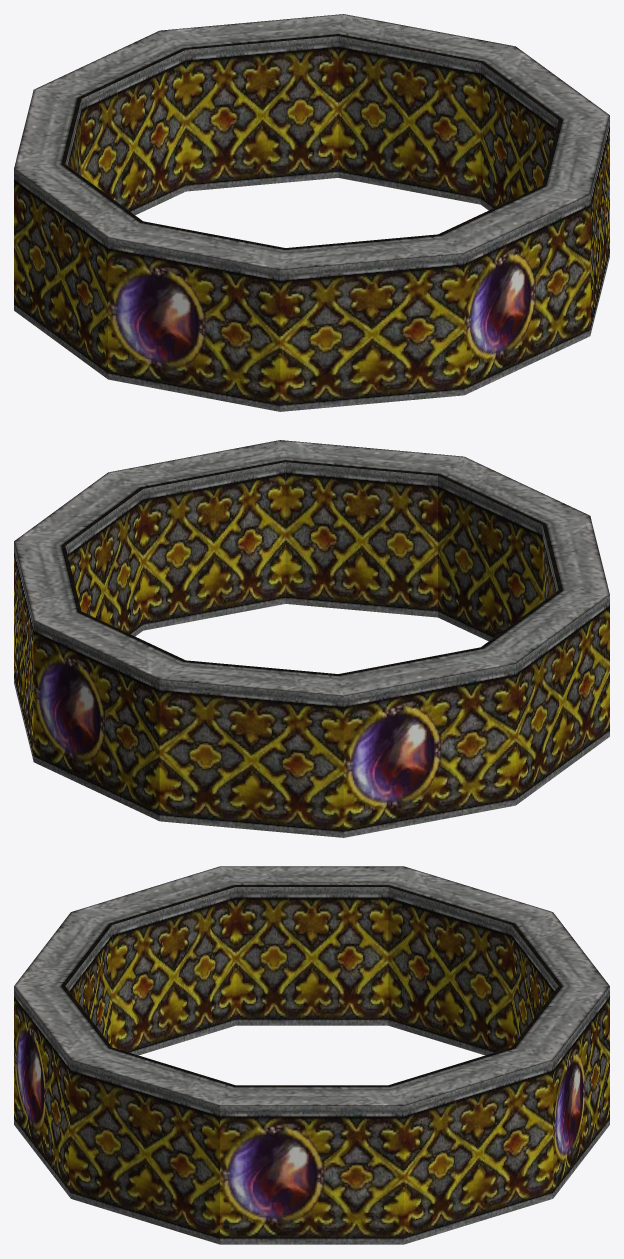
The model's file is ITRI_HP_MANA_01.glb.
3 renders of one model, top to bottom at view 1: azimuth 30°, elevation 25°; view 2: azimuth 150°, elevation 25°; view 3: azimuth 270°, elevation 25°, orthographic. The views are drawn at different scales.
Parts seen in each view (by area): view 1: ITRI_HP_MANA_01; view 2: ITRI_HP_MANA_01; view 3: ITRI_HP_MANA_01.
Boxes of the visible parts, x1,y1,x2,y2 form: ITRI_HP_MANA_01: (14, 14, 609, 411); ITRI_HP_MANA_01: (14, 440, 609, 837); ITRI_HP_MANA_01: (14, 866, 609, 1244).
Size of the model in its own units: 0.0624 by 0.0169 by 0.0657.
Materials: 1 (1 with a texture image).
